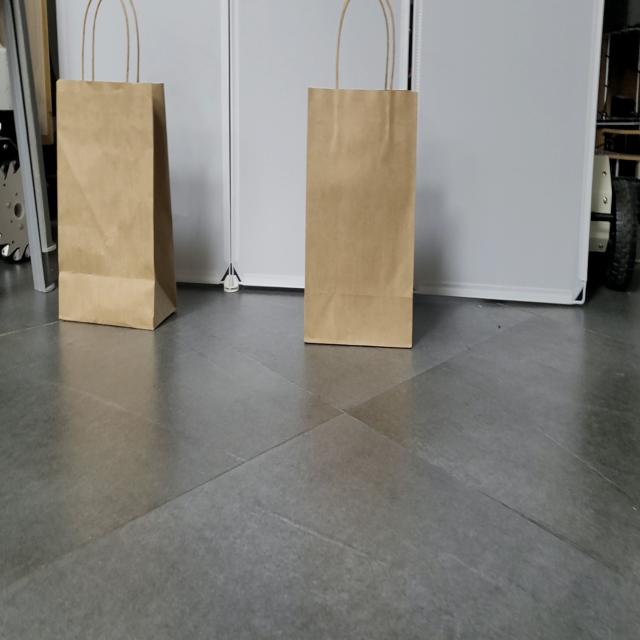paper bag: (51, 0, 174, 332), (307, 0, 419, 350)
